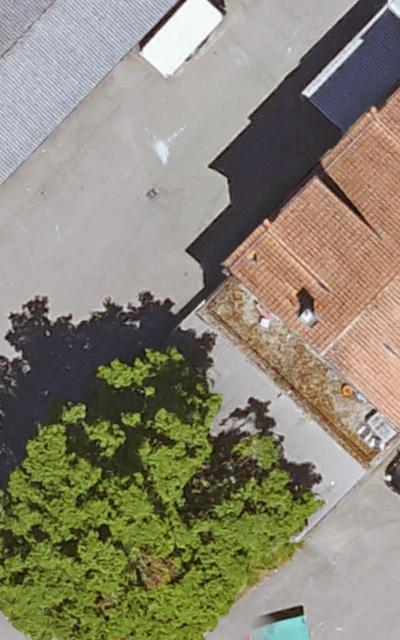tree: (1, 355, 213, 639), (205, 467, 305, 563)
